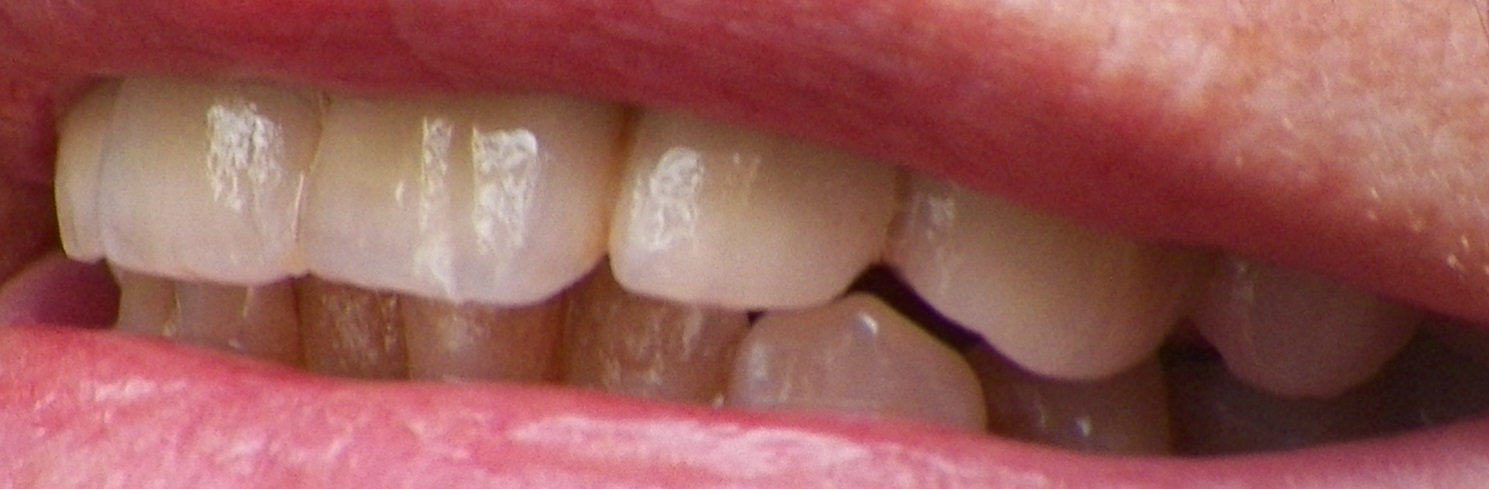boca: (52, 82, 1429, 453)
